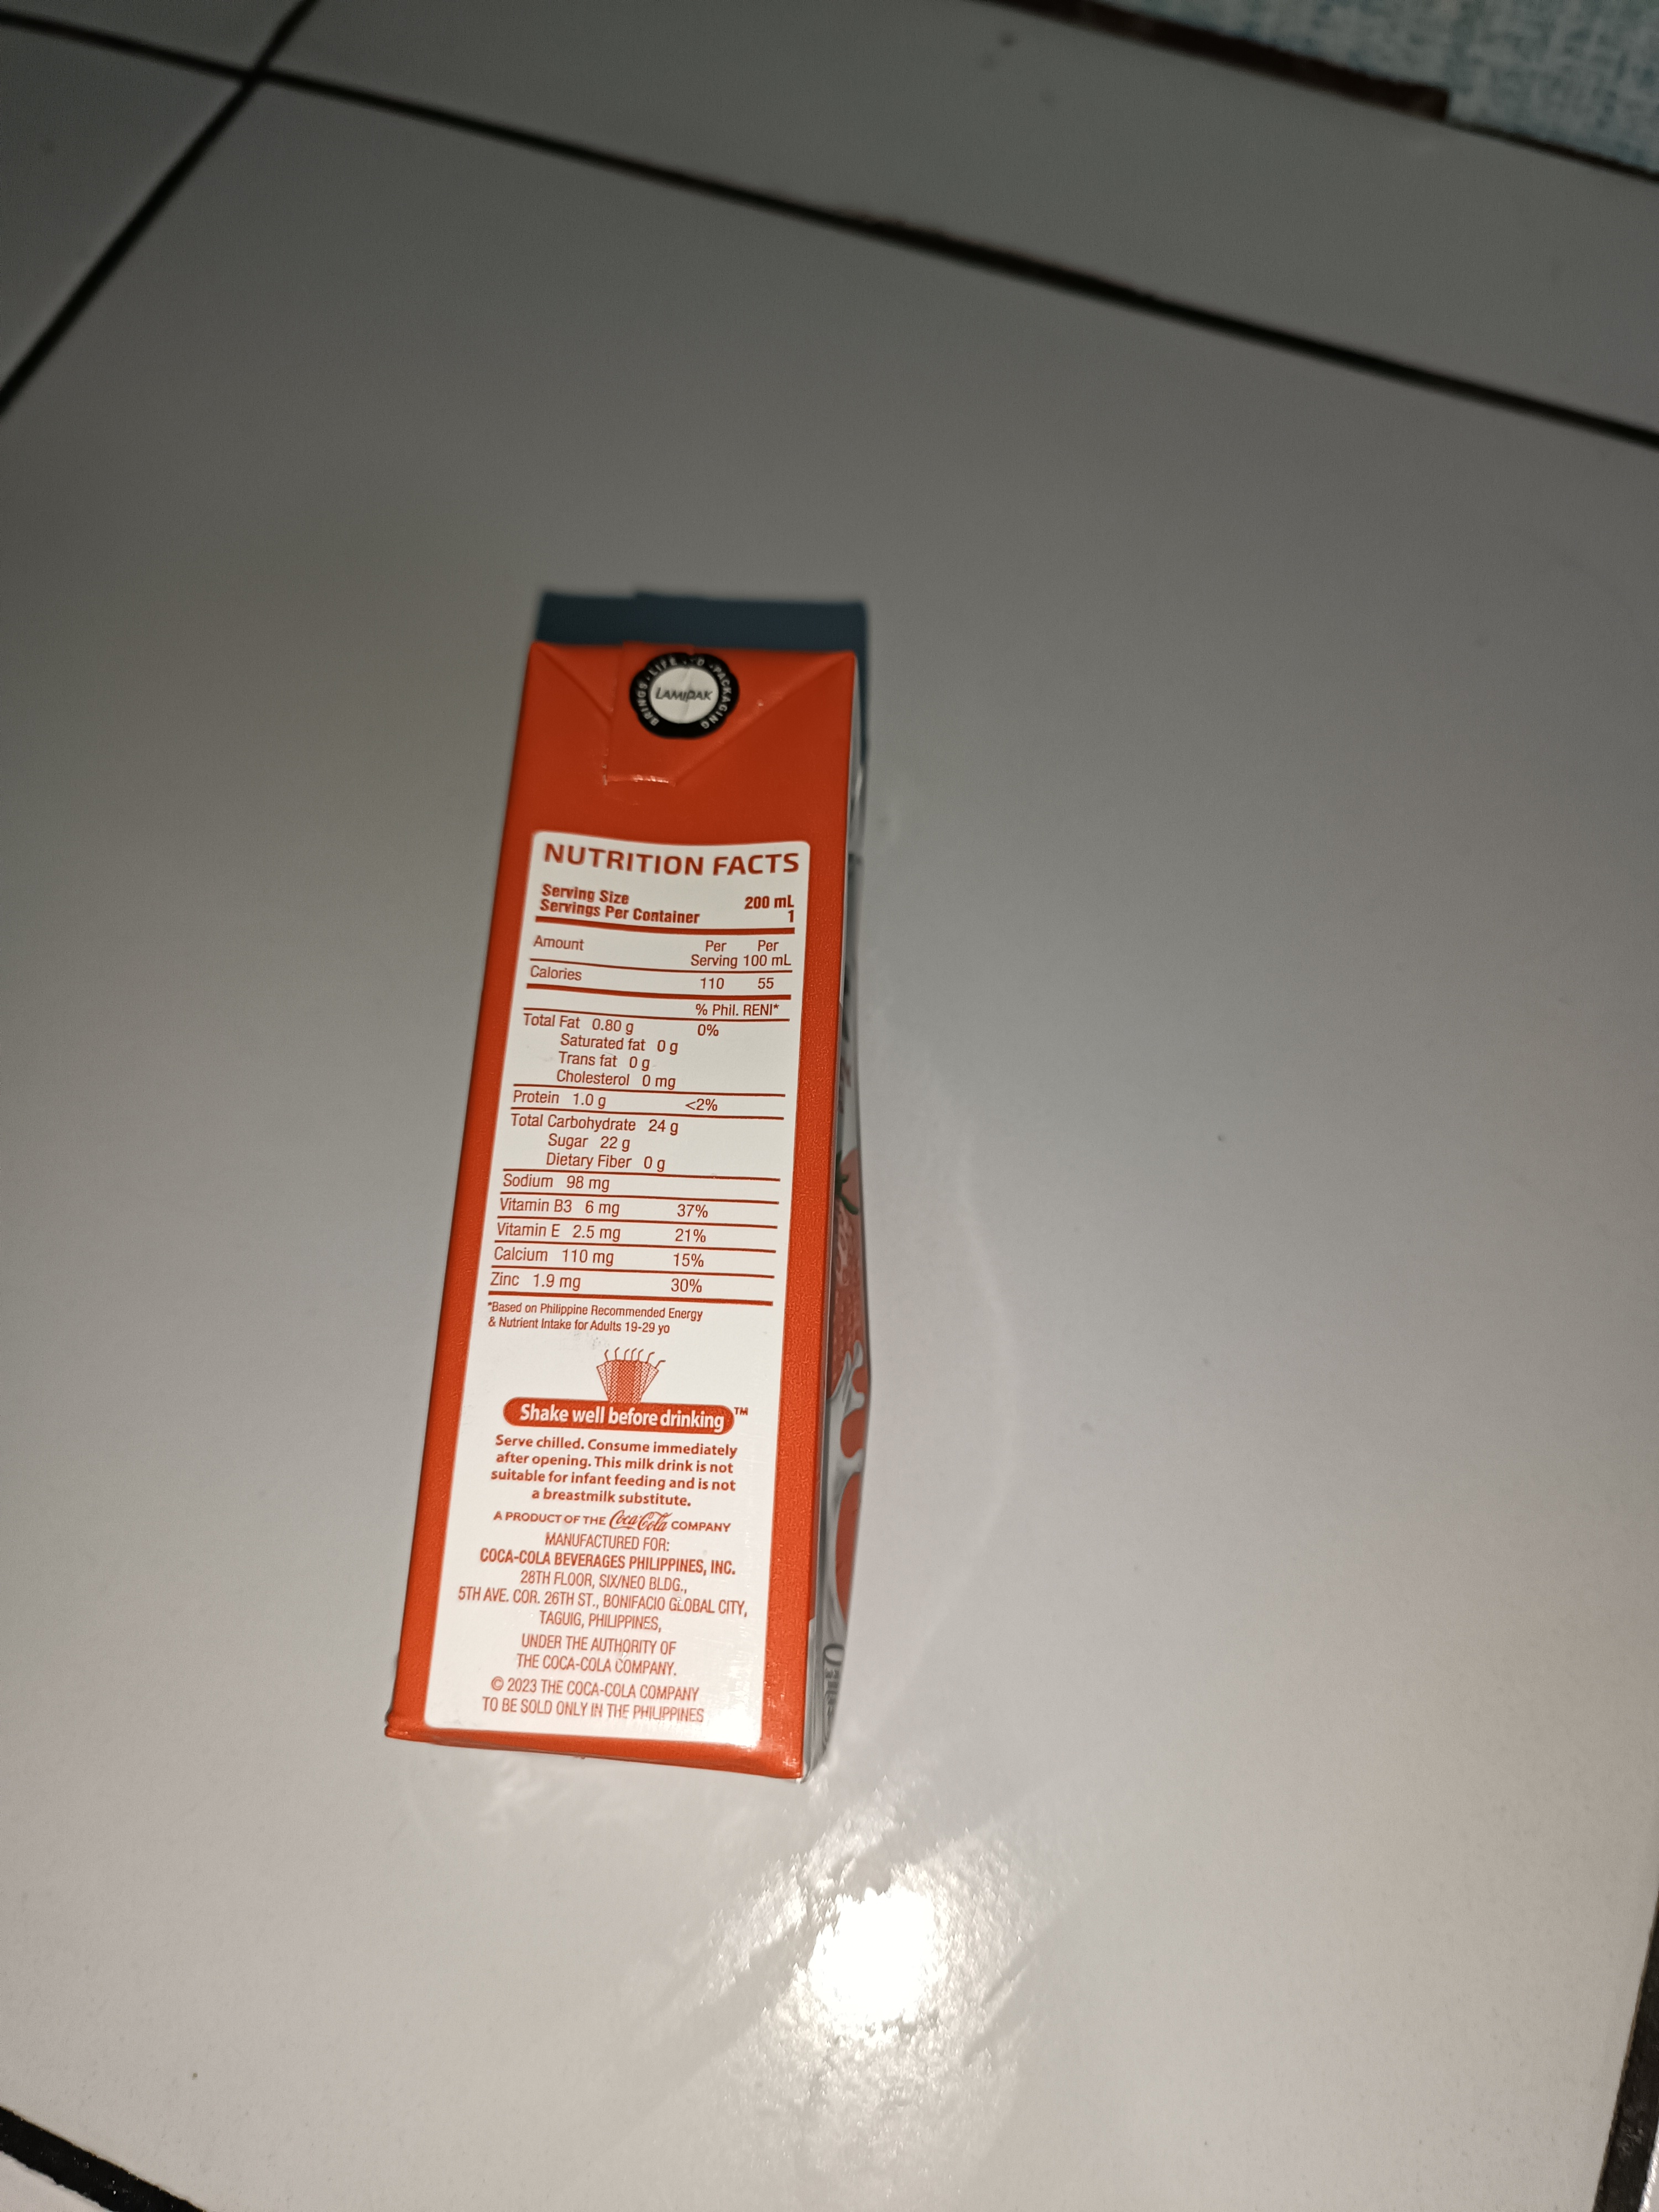Juice Box: (357, 549, 936, 1846)
